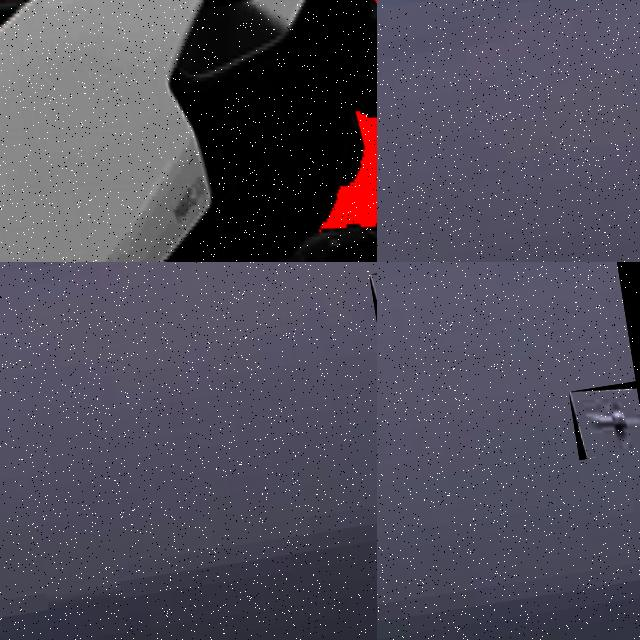0: (569, 381, 640, 460)
drone: (0, 0, 377, 262)
